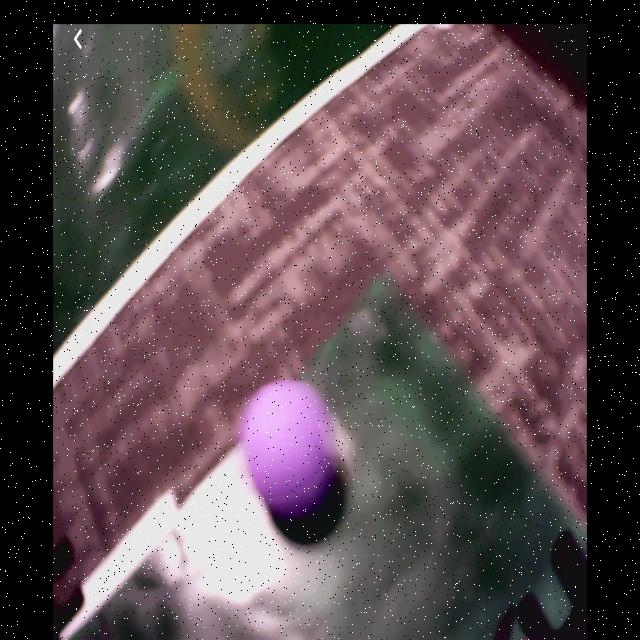ball: (245, 381, 333, 514)
